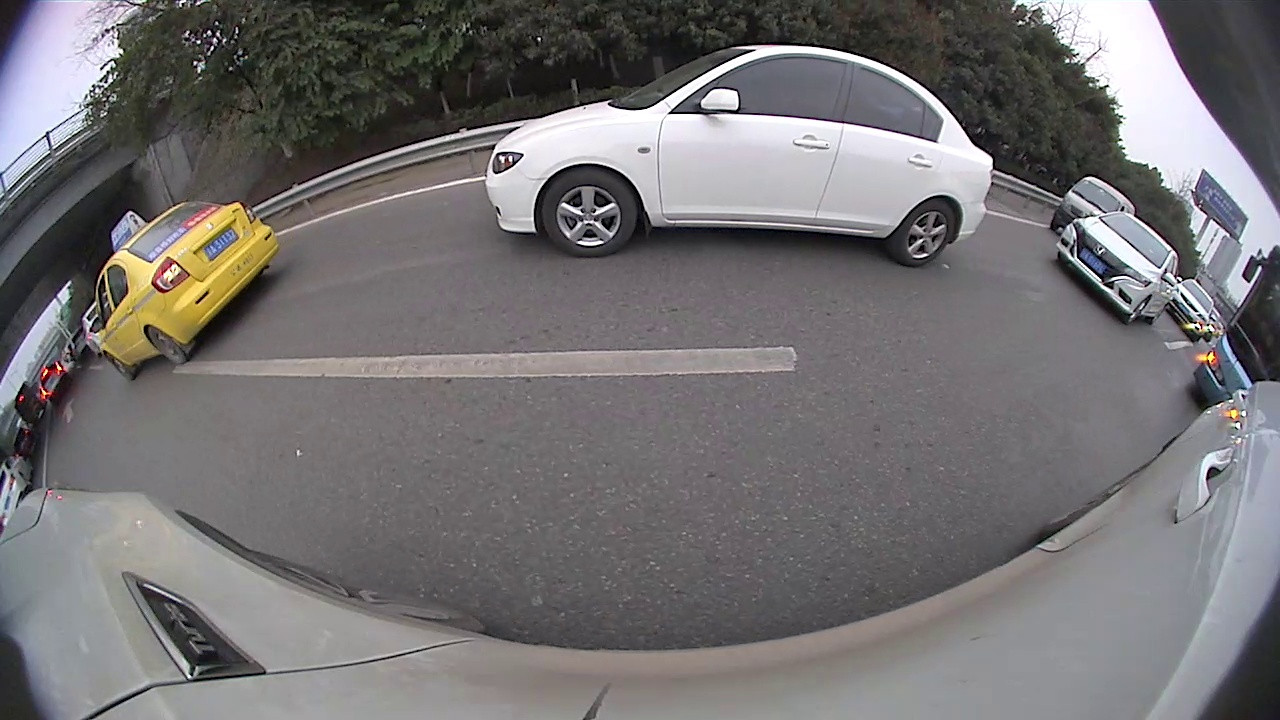bus: (1187, 239, 1279, 422)
car: (481, 42, 999, 267), (90, 197, 284, 385), (1056, 211, 1180, 324), (1046, 176, 1141, 231), (1166, 274, 1219, 341)
front: (536, 169, 640, 257), (103, 351, 139, 383), (1126, 294, 1150, 325)
rear: (892, 198, 958, 267), (146, 325, 188, 366)
